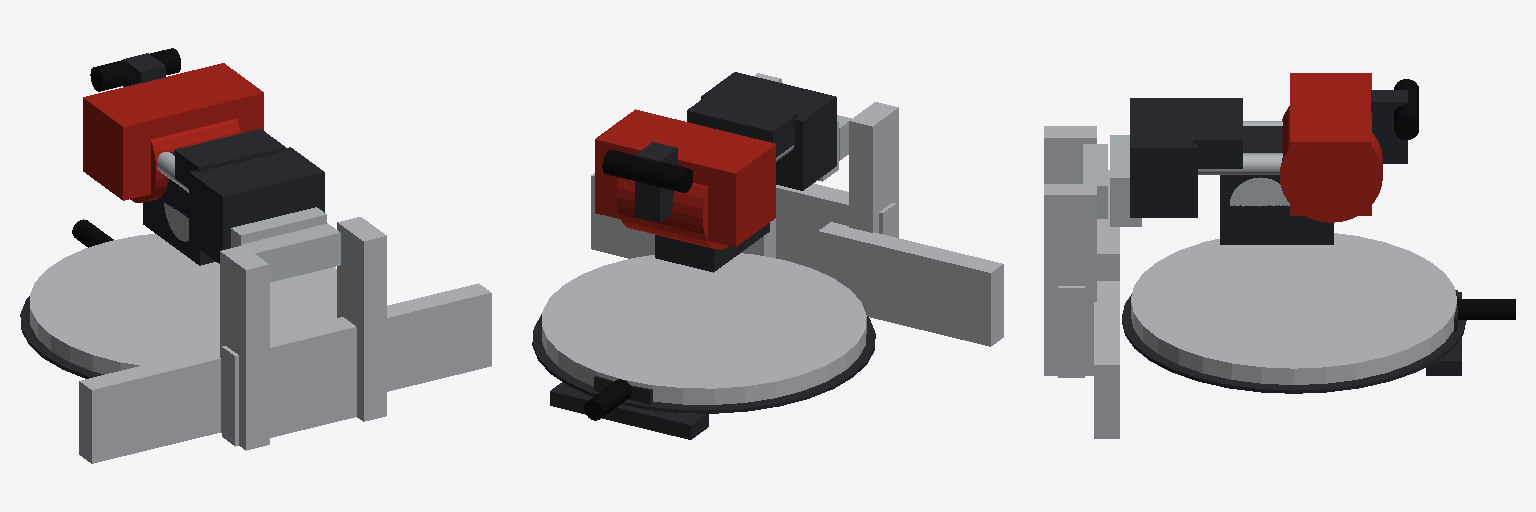
URDF robot description (miter_saw_arm_assembly):
<robot name="miter_saw_arm_assembly">
  <material name="cast_aluminum">
    <color rgba="0.74 0.75 0.77 1" />
  </material>
  <material name="brushed_steel">
    <color rgba="0.72 0.74 0.76 1" />
  </material>
  <material name="tool_red">
    <color rgba="0.67 0.16 0.12 1" />
  </material>
  <material name="charcoal_plastic">
    <color rgba="0.18 0.19 0.21 1" />
  </material>
  <material name="rubber_black">
    <color rgba="0.08 0.08 0.09 1" />
  </material>
  <material name="blade_steel">
    <color rgba="0.82 0.84 0.86 1" />
  </material>
  <material name="amber_guard">
    <color rgba="0.78 0.6 0.18 0.32" />
  </material>
  <link name="base">
    <inertial>
      <origin xyz="0 -0.02 0.135" rpy="0 0 0" />
      <mass value="16" />
      <inertia ixx="0.486" ixy="0" ixz="0" iyy="0.609733" iyz="0" izz="0.901333" />
    </inertial>
    <visual>
      <geometry>
        <mesh filename="meshes/base_shell.glb" />
      </geometry>
      <material name="cast_aluminum">
        <color rgba="0.74 0.75 0.77 1" />
      </material>
    </visual>
    <visual>
      <origin xyz="0 0 0.066" rpy="0 0 0" />
      <geometry>
        <cylinder radius="0.13" length="0.024" />
      </geometry>
      <material name="brushed_steel">
        <color rgba="0.72 0.74 0.76 1" />
      </material>
    </visual>
    <visual>
      <origin xyz="-0.145 -0.206 0.1" rpy="0 0 0" />
      <geometry>
        <box size="0.22 0.028 0.09" />
      </geometry>
      <material name="cast_aluminum">
        <color rgba="0.74 0.75 0.77 1" />
      </material>
    </visual>
    <visual>
      <origin xyz="0.145 -0.206 0.1" rpy="0 0 0" />
      <geometry>
        <box size="0.22 0.028 0.09" />
      </geometry>
      <material name="cast_aluminum">
        <color rgba="0.74 0.75 0.77 1" />
      </material>
    </visual>
    <visual>
      <origin xyz="-0.075 -0.246 0.165" rpy="0 0 0" />
      <geometry>
        <box size="0.03 0.058 0.22" />
      </geometry>
      <material name="cast_aluminum">
        <color rgba="0.74 0.75 0.77 1" />
      </material>
    </visual>
    <visual>
      <origin xyz="0.075 -0.246 0.165" rpy="0 0 0" />
      <geometry>
        <box size="0.03 0.058 0.22" />
      </geometry>
      <material name="cast_aluminum">
        <color rgba="0.74 0.75 0.77 1" />
      </material>
    </visual>
    <visual>
      <origin xyz="0 -0.245 0.11" rpy="0 0 0" />
      <geometry>
        <box size="0.19 0.03 0.11" />
      </geometry>
      <material name="cast_aluminum">
        <color rgba="0.74 0.75 0.77 1" />
      </material>
    </visual>
    <visual>
      <origin xyz="0 -0.219 0.25" rpy="0 0 0" />
      <geometry>
        <box size="0.11 0.028 0.04" />
      </geometry>
      <material name="brushed_steel">
        <color rgba="0.72 0.74 0.76 1" />
      </material>
    </visual>
    <visual>
      <origin xyz="0 0.165 0.064" rpy="0 0 0" />
      <geometry>
        <box size="0.18 0.04 0.018" />
      </geometry>
      <material name="charcoal_plastic">
        <color rgba="0.18 0.19 0.21 1" />
      </material>
    </visual>
    <collision name="base__visual_1__hull_001">
      <geometry>
        <mesh filename="meshes/collision/cache/b003c2a62ee90e8f0b623815__hull_001.obj" />
      </geometry>
    </collision>
    <collision name="base__visual_2">
      <origin xyz="0 0 0.066" rpy="0 0 0" />
      <geometry>
        <cylinder radius="0.13" length="0.024" />
      </geometry>
    </collision>
    <collision name="base__visual_3">
      <origin xyz="-0.145 -0.206 0.1" rpy="0 0 0" />
      <geometry>
        <box size="0.22 0.028 0.09" />
      </geometry>
    </collision>
    <collision name="base__visual_4">
      <origin xyz="0.145 -0.206 0.1" rpy="0 0 0" />
      <geometry>
        <box size="0.22 0.028 0.09" />
      </geometry>
    </collision>
    <collision name="base__visual_5">
      <origin xyz="-0.075 -0.246 0.165" rpy="0 0 0" />
      <geometry>
        <box size="0.03 0.058 0.22" />
      </geometry>
    </collision>
    <collision name="base__visual_6">
      <origin xyz="0.075 -0.246 0.165" rpy="0 0 0" />
      <geometry>
        <box size="0.03 0.058 0.22" />
      </geometry>
    </collision>
    <collision name="base__visual_7">
      <origin xyz="0 -0.245 0.11" rpy="0 0 0" />
      <geometry>
        <box size="0.19 0.03 0.11" />
      </geometry>
    </collision>
    <collision name="base__visual_8">
      <origin xyz="0 -0.219 0.25" rpy="0 0 0" />
      <geometry>
        <box size="0.11 0.028 0.04" />
      </geometry>
    </collision>
    <collision name="base__visual_9">
      <origin xyz="0 0.165 0.064" rpy="0 0 0" />
      <geometry>
        <box size="0.18 0.04 0.018" />
      </geometry>
    </collision>
  </link>
  <link name="turntable">
    <inertial>
      <origin xyz="0 0 0.017" rpy="0 0 0" />
      <mass value="5.5" />
      <inertia ixx="0.0447333" ixy="0" ixz="0" iyy="0.0447333" iyz="0" izz="0.0891" />
    </inertial>
    <visual>
      <origin xyz="0 0 0.008" rpy="0 0 0" />
      <geometry>
        <cylinder radius="0.07" length="0.014" />
      </geometry>
      <material name="brushed_steel">
        <color rgba="0.72 0.74 0.76 1" />
      </material>
    </visual>
    <visual>
      <origin xyz="0 0 0.017" rpy="0 0 0" />
      <geometry>
        <cylinder radius="0.18" length="0.02" />
      </geometry>
      <material name="cast_aluminum">
        <color rgba="0.74 0.75 0.77 1" />
      </material>
    </visual>
    <visual>
      <origin xyz="0 0 0.003" rpy="0 0 0" />
      <geometry>
        <cylinder radius="0.19" length="0.004" />
      </geometry>
      <material name="charcoal_plastic">
        <color rgba="0.18 0.19 0.21 1" />
      </material>
    </visual>
    <visual>
      <origin xyz="0 0.146 0.012" rpy="0 0 0" />
      <geometry>
        <box size="0.072 0.07 0.02" />
      </geometry>
      <material name="charcoal_plastic">
        <color rgba="0.18 0.19 0.21 1" />
      </material>
    </visual>
    <visual>
      <origin xyz="0 0.204 0.015" rpy="1.5708 0 0" />
      <geometry>
        <cylinder radius="0.012" length="0.08" />
      </geometry>
      <material name="rubber_black">
        <color rgba="0.08 0.08 0.09 1" />
      </material>
    </visual>
    <collision name="turntable__visual_1">
      <origin xyz="0 0 0.008" rpy="0 0 0" />
      <geometry>
        <cylinder radius="0.07" length="0.014" />
      </geometry>
    </collision>
    <collision name="turntable__visual_2">
      <origin xyz="0 0 0.017" rpy="0 0 0" />
      <geometry>
        <cylinder radius="0.18" length="0.02" />
      </geometry>
    </collision>
    <collision name="turntable__visual_3">
      <origin xyz="0 0 0.003" rpy="0 0 0" />
      <geometry>
        <cylinder radius="0.19" length="0.004" />
      </geometry>
    </collision>
    <collision name="turntable__visual_4">
      <origin xyz="0 0.146 0.012" rpy="0 0 0" />
      <geometry>
        <box size="0.072 0.07 0.02" />
      </geometry>
    </collision>
    <collision name="turntable__visual_5">
      <origin xyz="0 0.204 0.015" rpy="1.5708 0 0" />
      <geometry>
        <cylinder radius="0.012" length="0.08" />
      </geometry>
    </collision>
  </link>
  <link name="saw_arm">
    <inertial>
      <origin xyz="0 0.165 0.035" rpy="0 0 0" />
      <mass value="9" />
      <inertia ixx="0.1383" ixy="0" ixz="0" iyy="0.1068" iyz="0" izz="0.1851" />
    </inertial>
    <visual>
      <origin xyz="0 0.019 0" rpy="0 0 0" />
      <geometry>
        <box size="0.11 0.036 0.06" />
      </geometry>
      <material name="brushed_steel">
        <color rgba="0.72 0.74 0.76 1" />
      </material>
    </visual>
    <visual>
      <origin xyz="0 0.061 0.028" rpy="0 0 0" />
      <geometry>
        <box size="0.13 0.075 0.085" />
      </geometry>
      <material name="charcoal_plastic">
        <color rgba="0.18 0.19 0.21 1" />
      </material>
    </visual>
    <visual>
      <origin xyz="-0.042 0.15 0.04" rpy="1.5708 0 0" />
      <geometry>
        <cylinder radius="0.012" length="0.19" />
      </geometry>
      <material name="brushed_steel">
        <color rgba="0.72 0.74 0.76 1" />
      </material>
    </visual>
    <visual>
      <origin xyz="0.042 0.15 0.04" rpy="1.5708 0 0" />
      <geometry>
        <cylinder radius="0.012" length="0.19" />
      </geometry>
      <material name="brushed_steel">
        <color rgba="0.72 0.74 0.76 1" />
      </material>
    </visual>
    <visual>
      <origin xyz="0 0.12 0.058" rpy="0 0 0" />
      <geometry>
        <box size="0.11 0.055 0.035" />
      </geometry>
      <material name="charcoal_plastic">
        <color rgba="0.18 0.19 0.21 1" />
      </material>
    </visual>
    <visual>
      <origin xyz="0 0.245 0.045" rpy="0 0 0" />
      <geometry>
        <box size="0.18 0.09 0.09" />
      </geometry>
      <material name="tool_red">
        <color rgba="0.67 0.16 0.12 1" />
      </material>
    </visual>
    <visual>
      <origin xyz="0 0.185 -0.005" rpy="0 0 0" />
      <geometry>
        <box size="0.075 0.125 0.11" />
      </geometry>
      <material name="charcoal_plastic">
        <color rgba="0.18 0.19 0.21 1" />
      </material>
    </visual>
    <visual>
      <origin xyz="0 0.245 0.032" rpy="0 1.5708 0" />
      <geometry>
        <cylinder radius="0.057" length="0.11" />
      </geometry>
      <material name="tool_red">
        <color rgba="0.67 0.16 0.12 1" />
      </material>
    </visual>
    <visual>
      <origin xyz="0 0.167 -0.012" rpy="0 1.5708 0" />
      <geometry>
        <cylinder radius="0.034" length="0.075" />
      </geometry>
      <material name="brushed_steel">
        <color rgba="0.72 0.74 0.76 1" />
      </material>
    </visual>
    <visual>
      <origin xyz="0 0.165 -0.015" rpy="0 1.5708 0" />
      <geometry>
        <mesh filename="meshes/turntable_blade.glb" />
      </geometry>
      <material name="blade_steel">
        <color rgba="0.82 0.84 0.86 1" />
      </material>
    </visual>
    <visual>
      <origin xyz="0 0.165 -0.015" rpy="0 1.5708 0" />
      <geometry>
        <mesh filename="meshes/upper_guard.glb" />
      </geometry>
      <material name="tool_red">
        <color rgba="0.67 0.16 0.12 1" />
      </material>
    </visual>
    <visual>
      <origin xyz="0 0.176 -0.01" rpy="0 1.5708 0" />
      <geometry>
        <mesh filename="meshes/lower_guard.glb" />
      </geometry>
      <material name="amber_guard">
        <color rgba="0.78 0.6 0.18 0.32" />
      </material>
    </visual>
    <visual>
      <geometry>
        <mesh filename="meshes/handle_tube.glb" />
      </geometry>
      <material name="rubber_black">
        <color rgba="0.08 0.08 0.09 1" />
      </material>
    </visual>
    <visual>
      <origin xyz="0 0.328 0.087" rpy="0 1.5708 0" />
      <geometry>
        <cylinder radius="0.014" length="0.1" />
      </geometry>
      <material name="rubber_black">
        <color rgba="0.08 0.08 0.09 1" />
      </material>
    </visual>
    <visual>
      <origin xyz="0 0.309 0.066" rpy="0 0 0" />
      <geometry>
        <box size="0.032 0.04 0.075" />
      </geometry>
      <material name="charcoal_plastic">
        <color rgba="0.18 0.19 0.21 1" />
      </material>
    </visual>
    <collision name="saw_arm__visual_1">
      <origin xyz="0 0.019 0" rpy="0 0 0" />
      <geometry>
        <box size="0.11 0.036 0.06" />
      </geometry>
    </collision>
    <collision name="saw_arm__visual_2">
      <origin xyz="0 0.061 0.028" rpy="0 0 0" />
      <geometry>
        <box size="0.13 0.075 0.085" />
      </geometry>
    </collision>
    <collision name="saw_arm__visual_3">
      <origin xyz="-0.042 0.15 0.04" rpy="1.5708 0 0" />
      <geometry>
        <cylinder radius="0.012" length="0.19" />
      </geometry>
    </collision>
    <collision name="saw_arm__visual_4">
      <origin xyz="0.042 0.15 0.04" rpy="1.5708 0 0" />
      <geometry>
        <cylinder radius="0.012" length="0.19" />
      </geometry>
    </collision>
    <collision name="saw_arm__visual_5">
      <origin xyz="0 0.12 0.058" rpy="0 0 0" />
      <geometry>
        <box size="0.11 0.055 0.035" />
      </geometry>
    </collision>
    <collision name="saw_arm__visual_6">
      <origin xyz="0 0.245 0.045" rpy="0 0 0" />
      <geometry>
        <box size="0.18 0.09 0.09" />
      </geometry>
    </collision>
    <collision name="saw_arm__visual_7">
      <origin xyz="0 0.185 -0.005" rpy="0 0 0" />
      <geometry>
        <box size="0.075 0.125 0.11" />
      </geometry>
    </collision>
    <collision name="saw_arm__visual_8">
      <origin xyz="0 0.245 0.032" rpy="0 1.5708 0" />
      <geometry>
        <cylinder radius="0.057" length="0.11" />
      </geometry>
    </collision>
    <collision name="saw_arm__visual_9">
      <origin xyz="0 0.167 -0.012" rpy="0 1.5708 0" />
      <geometry>
        <cylinder radius="0.034" length="0.075" />
      </geometry>
    </collision>
    <collision name="saw_arm__visual_10__hull_001">
      <origin xyz="0 0.165 -0.015" rpy="0 1.5708 0" />
      <geometry>
        <mesh filename="meshes/collision/cache/11201055ac88927f18717b44__hull_001.obj" />
      </geometry>
    </collision>
    <collision name="saw_arm__visual_10__hull_002">
      <origin xyz="0 0.165 -0.015" rpy="0 1.5708 0" />
      <geometry>
        <mesh filename="meshes/collision/cache/11201055ac88927f18717b44__hull_002.obj" />
      </geometry>
    </collision>
    <collision name="saw_arm__visual_10__hull_003">
      <origin xyz="0 0.165 -0.015" rpy="0 1.5708 0" />
      <geometry>
        <mesh filename="meshes/collision/cache/11201055ac88927f18717b44__hull_003.obj" />
      </geometry>
    </collision>
    <collision name="saw_arm__visual_10__hull_004">
      <origin xyz="0 0.165 -0.015" rpy="0 1.5708 0" />
      <geometry>
        <mesh filename="meshes/collision/cache/11201055ac88927f18717b44__hull_004.obj" />
      </geometry>
    </collision>
    <collision name="saw_arm__visual_11__hull_001">
      <origin xyz="0 0.165 -0.015" rpy="0 1.5708 0" />
      <geometry>
        <mesh filename="meshes/collision/cache/15d9aa3da39ddc3a147c6275__hull_001.obj" />
      </geometry>
    </collision>
    <collision name="saw_arm__visual_11__hull_002">
      <origin xyz="0 0.165 -0.015" rpy="0 1.5708 0" />
      <geometry>
        <mesh filename="meshes/collision/cache/15d9aa3da39ddc3a147c6275__hull_002.obj" />
      </geometry>
    </collision>
    <collision name="saw_arm__visual_11__hull_003">
      <origin xyz="0 0.165 -0.015" rpy="0 1.5708 0" />
      <geometry>
        <mesh filename="meshes/collision/cache/15d9aa3da39ddc3a147c6275__hull_003.obj" />
      </geometry>
    </collision>
    <collision name="saw_arm__visual_11__hull_004">
      <origin xyz="0 0.165 -0.015" rpy="0 1.5708 0" />
      <geometry>
        <mesh filename="meshes/collision/cache/15d9aa3da39ddc3a147c6275__hull_004.obj" />
      </geometry>
    </collision>
    <collision name="saw_arm__visual_11__hull_005">
      <origin xyz="0 0.165 -0.015" rpy="0 1.5708 0" />
      <geometry>
        <mesh filename="meshes/collision/cache/15d9aa3da39ddc3a147c6275__hull_005.obj" />
      </geometry>
    </collision>
    <collision name="saw_arm__visual_12__hull_001">
      <origin xyz="0 0.176 -0.01" rpy="0 1.5708 0" />
      <geometry>
        <mesh filename="meshes/collision/cache/6cda12581f75ee6267c6151e__hull_001.obj" />
      </geometry>
    </collision>
    <collision name="saw_arm__visual_12__hull_002">
      <origin xyz="0 0.176 -0.01" rpy="0 1.5708 0" />
      <geometry>
        <mesh filename="meshes/collision/cache/6cda12581f75ee6267c6151e__hull_002.obj" />
      </geometry>
    </collision>
    <collision name="saw_arm__visual_12__hull_003">
      <origin xyz="0 0.176 -0.01" rpy="0 1.5708 0" />
      <geometry>
        <mesh filename="meshes/collision/cache/6cda12581f75ee6267c6151e__hull_003.obj" />
      </geometry>
    </collision>
    <collision name="saw_arm__visual_12__hull_004">
      <origin xyz="0 0.176 -0.01" rpy="0 1.5708 0" />
      <geometry>
        <mesh filename="meshes/collision/cache/6cda12581f75ee6267c6151e__hull_004.obj" />
      </geometry>
    </collision>
    <collision name="saw_arm__visual_13__hull_001">
      <geometry>
        <mesh filename="meshes/collision/cache/8d0976c78270093b2d487659__hull_001.obj" />
      </geometry>
    </collision>
    <collision name="saw_arm__visual_13__hull_002">
      <geometry>
        <mesh filename="meshes/collision/cache/8d0976c78270093b2d487659__hull_002.obj" />
      </geometry>
    </collision>
    <collision name="saw_arm__visual_13__hull_003">
      <geometry>
        <mesh filename="meshes/collision/cache/8d0976c78270093b2d487659__hull_003.obj" />
      </geometry>
    </collision>
    <collision name="saw_arm__visual_13__hull_004">
      <geometry>
        <mesh filename="meshes/collision/cache/8d0976c78270093b2d487659__hull_004.obj" />
      </geometry>
    </collision>
    <collision name="saw_arm__visual_14">
      <origin xyz="0 0.328 0.087" rpy="0 1.5708 0" />
      <geometry>
        <cylinder radius="0.014" length="0.1" />
      </geometry>
    </collision>
    <collision name="saw_arm__visual_15">
      <origin xyz="0 0.309 0.066" rpy="0 0 0" />
      <geometry>
        <box size="0.032 0.04 0.075" />
      </geometry>
    </collision>
  </link>
  <joint name="miter_rotation" type="revolute">
    <origin xyz="0 0 0.079" rpy="0 0 0" />
    <parent link="base" />
    <child link="turntable" />
    <axis xyz="0 0 1" />
    <limit effort="25" velocity="1.5" lower="-0.82" upper="0.82" />
  </joint>
  <joint name="saw_arm_tilt" type="revolute">
    <origin xyz="0 -0.204 0.25" rpy="0 0 0" />
    <parent link="base" />
    <child link="saw_arm" />
    <axis xyz="1 0 0" />
    <limit effort="35" velocity="1.2" lower="-0.07" upper="0.95" />
  </joint>
</robot>

--- Facts derived from the render (not from the file) ---
3 views of the same robot in one strip: view 1: azimuth 30°, elevation 25°; view 2: azimuth 150°, elevation 25°; view 3: azimuth 270°, elevation 25° (orthographic).
Robot: miter_saw_arm_assembly — 3 links, 2 joints (2 revolute); root link base; default pose: every joint at zero.
Links seen in each view (by area): view 1: base, saw_arm, turntable; view 2: turntable, saw_arm, base; view 3: turntable, saw_arm, base.
Link boxes in pixels (box(x1,y1,x2,y2)): base: box(79, 217, 491, 463); saw_arm: box(83, 48, 326, 265); turntable: box(20, 219, 336, 378); turntable: box(532, 253, 875, 420); saw_arm: box(595, 72, 838, 272); base: box(550, 73, 1003, 439); turntable: box(1122, 233, 1515, 393); saw_arm: box(1110, 73, 1418, 244); base: box(1044, 126, 1461, 438).
Size in the robot's own frame: 0.51 by 0.519 by 0.2995 metres.
0 mesh visuals loaded from 5 distinct referenced files (none loaded); not drawn: 5 (reference not matched to a file when rendering).
